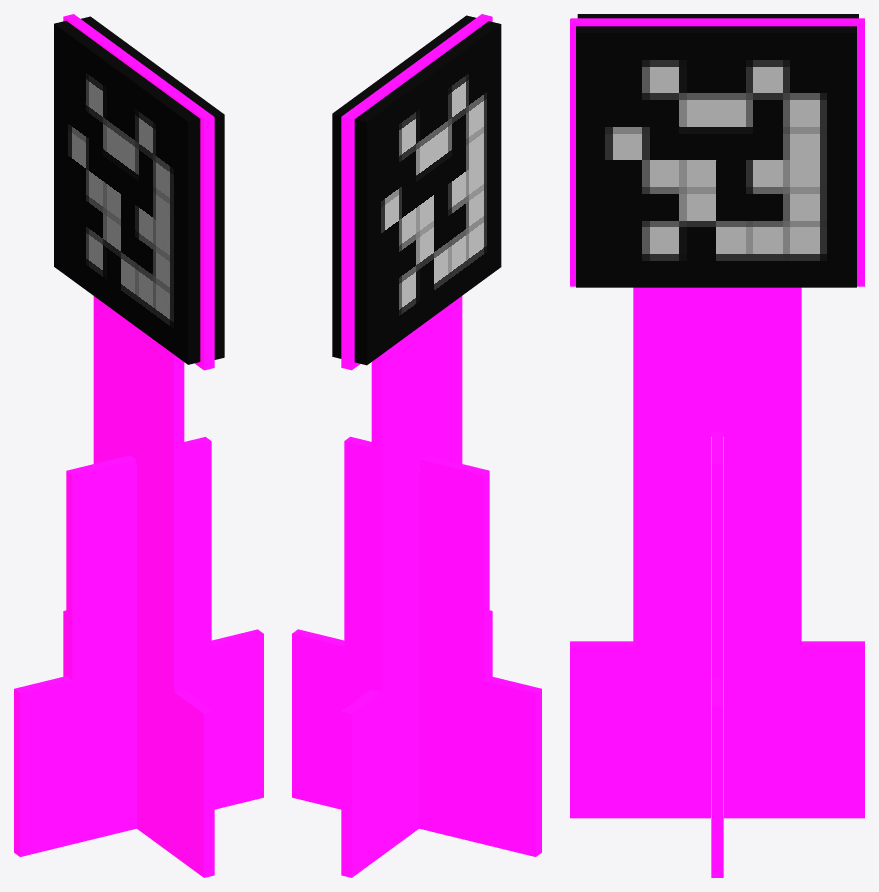
The model's file is creeper.dae.
The picture shows the model from 3 angles, left to right: view 1: azimuth 30°, elevation 25°; view 2: azimuth 150°, elevation 25°; view 3: azimuth 270°, elevation 25°; orthographic projection. The views are drawn at different scales.
Parts seen in each view (by area): view 1: Creeper_-_Montagem_v3, MarkerData, MarkerData_001; view 2: Creeper_-_Montagem_v3, MarkerData, MarkerData_001; view 3: Creeper_-_Montagem_v3, MarkerData_001, MarkerData.
Boxes of the visible parts, <box> form: Creeper_-_Montagem_v3: <box>14,14,263,877</box>; MarkerData: <box>54,20,200,364</box>; MarkerData_001: <box>81,16,224,359</box>; Creeper_-_Montagem_v3: <box>292,14,541,877</box>; MarkerData: <box>354,21,501,365</box>; MarkerData_001: <box>332,15,475,358</box>; Creeper_-_Montagem_v3: <box>570,18,864,877</box>; MarkerData_001: <box>576,26,856,287</box>; MarkerData: <box>577,14,858,18</box>.
Size of the model in its own units: 0.063 by 0.063 by 0.1872.
Materials: 2 (1 with a texture image).
